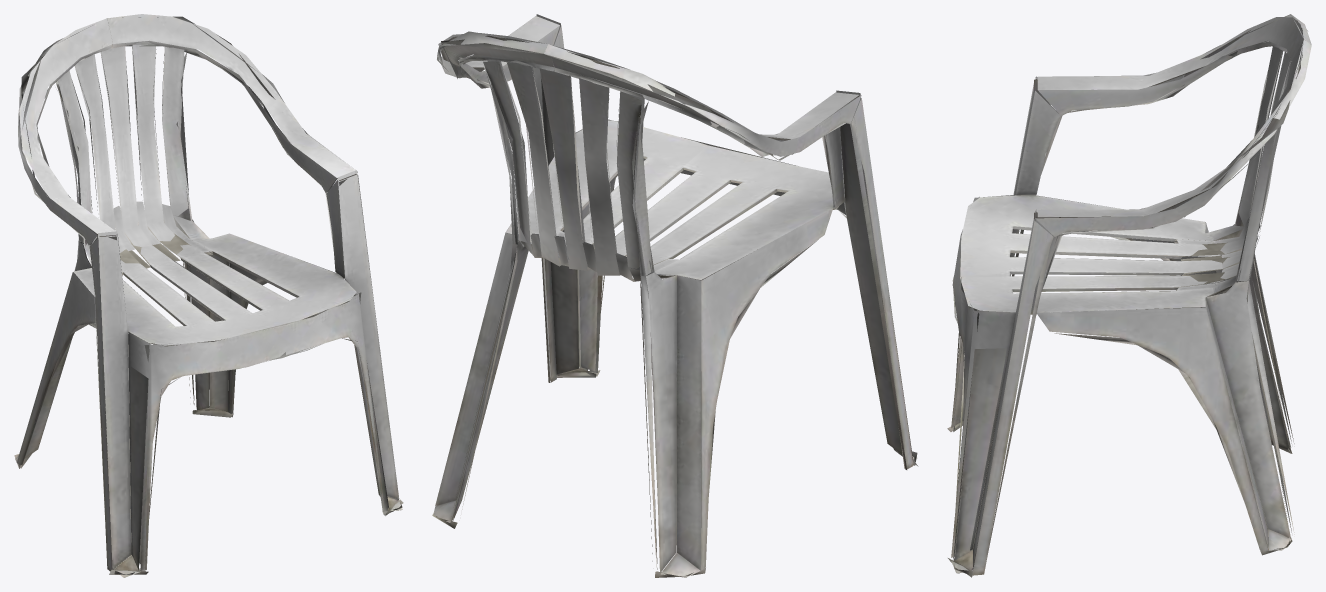
The model's file is plastic_monobloc_chair_01.glb.
The picture shows the model from 3 angles, left to right: view 1: azimuth 30°, elevation 25°; view 2: azimuth 150°, elevation 25°; view 3: azimuth 270°, elevation 25°; orthographic projection. The views are drawn at different scales.
Parts seen in each view (by area): view 1: plastic_monobloc_chair_01; view 2: plastic_monobloc_chair_01; view 3: plastic_monobloc_chair_01.
Part boxes in pixels (x1,y1,x2,y2): plastic_monobloc_chair_01: [14, 14, 403, 577]; plastic_monobloc_chair_01: [432, 14, 918, 577]; plastic_monobloc_chair_01: [947, 14, 1311, 577].
Bounding box in the file's own units: 0.6602 × 0.8816 × 0.6347.
Materials: 1 (1 with a texture image).
